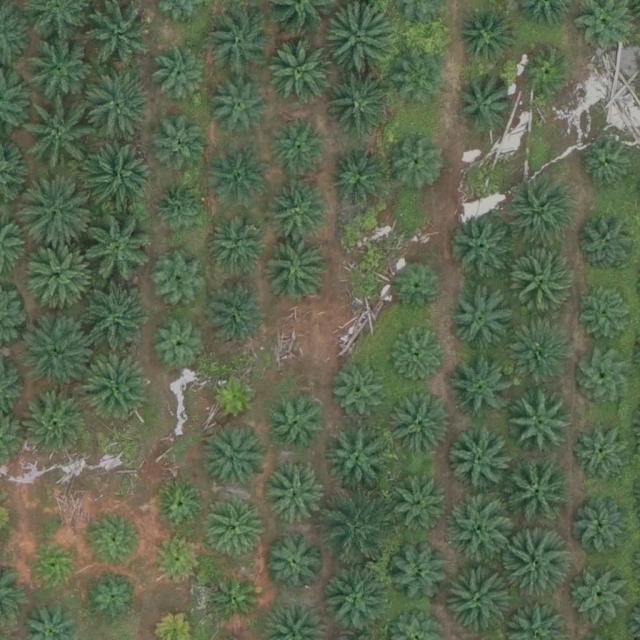Healthy: (322, 499, 393, 570), (24, 181, 95, 252), (503, 531, 573, 602), (503, 461, 573, 532), (504, 181, 574, 252), (325, 76, 395, 147), (322, 422, 392, 493), (85, 70, 156, 140), (83, 144, 153, 215), (78, 289, 148, 360), (81, 354, 151, 425), (19, 390, 89, 461), (24, 240, 94, 311), (271, 38, 341, 109), (202, 7, 272, 78), (445, 497, 515, 567), (79, 217, 149, 287), (24, 320, 94, 390), (29, 100, 99, 170), (327, 5, 397, 75), (23, 30, 93, 100), (510, 244, 573, 307), (447, 427, 510, 490), (390, 392, 453, 455), (265, 241, 328, 304), (207, 152, 270, 215), (202, 429, 265, 492), (510, 393, 572, 456), (447, 294, 509, 357), (452, 356, 514, 419), (327, 568, 390, 630), (389, 541, 451, 604), (268, 183, 330, 246), (266, 391, 328, 454), (266, 459, 328, 522), (262, 536, 324, 599), (210, 72, 273, 134), (206, 213, 268, 276), (207, 281, 269, 344), (202, 497, 264, 560), (456, 75, 518, 138), (508, 322, 570, 384), (453, 217, 515, 279), (391, 470, 453, 532), (390, 324, 445, 380), (580, 216, 635, 271), (576, 135, 631, 190), (575, 290, 630, 345), (574, 349, 629, 404), (573, 426, 628, 481), (574, 503, 629, 558), (573, 567, 628, 622), (89, 512, 144, 567), (89, 569, 144, 624), (150, 532, 205, 587), (155, 476, 210, 531), (389, 139, 444, 194), (331, 364, 386, 419), (272, 118, 327, 173), (152, 317, 207, 372), (154, 249, 209, 304), (460, 13, 515, 68), (392, 45, 447, 100), (27, 538, 81, 593), (391, 261, 445, 316), (332, 153, 386, 208), (208, 569, 262, 624), (153, 182, 207, 237), (153, 116, 207, 171), (155, 46, 209, 101)
Small: (526, 47, 573, 94)
Yellow: (209, 369, 264, 424)
